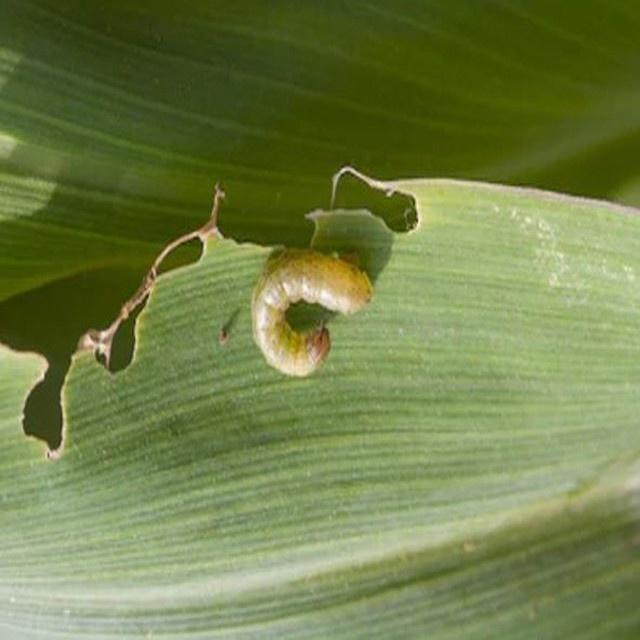gusano_cogollero: (246, 252, 378, 374)
